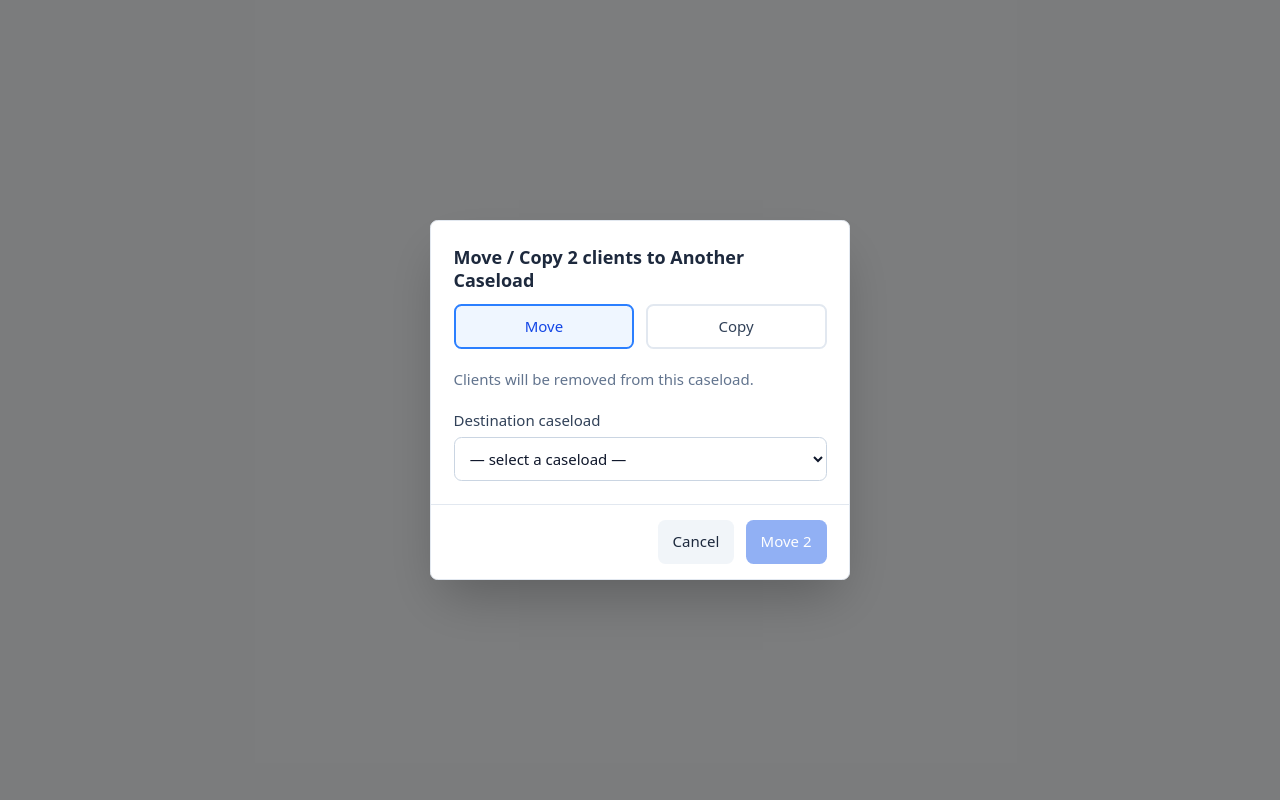
ColumnCarryPreview (G-18) › shows the same note in the bulk dialog
The image size is (1280, 800).
Select "Active" in the dropdown: (640,459) [454, 437, 826, 481]
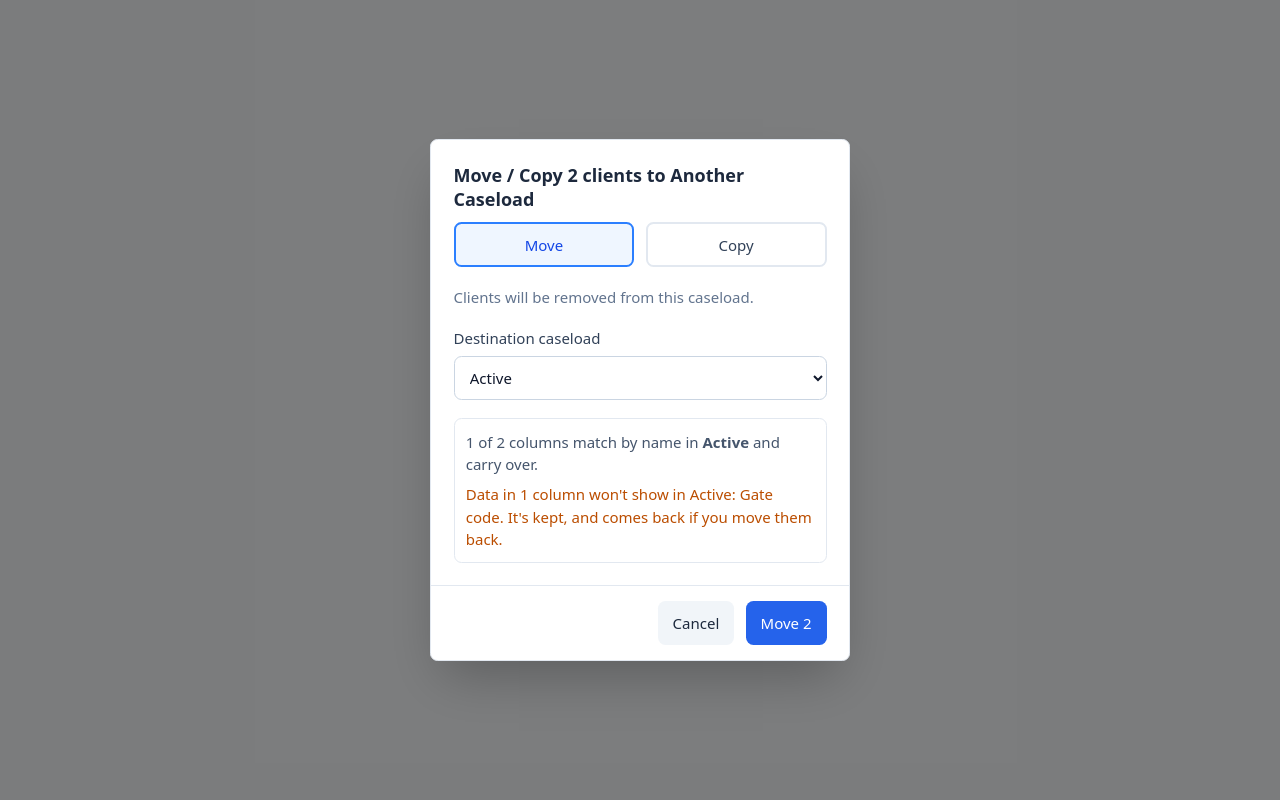
Result: the element with test id "column-carry-preview" shows "won't show in Active: Gate code" at [454, 418, 826, 563]
